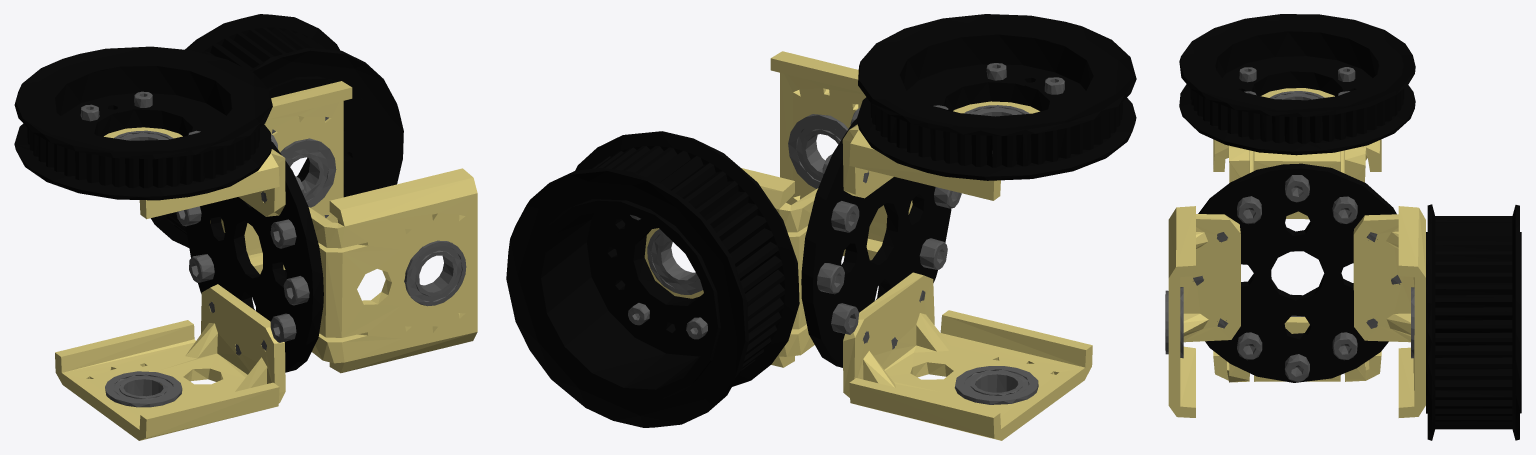
File: joint_junction_link_large_pitch_pulley.dae
The picture shows the model from 3 angles, left to right: view 1: azimuth 30°, elevation 25°; view 2: azimuth 150°, elevation 25°; view 3: azimuth 270°, elevation 25°; orthographic projection. The views are drawn at different scales.
Parts seen in each view (by area): view 1: joint_junction_link_large_black, joint_junction_link_gold, joint_junction_link_large_grey; view 2: joint_junction_link_large_black, joint_junction_link_gold, joint_junction_link_large_grey; view 3: joint_junction_link_large_black, joint_junction_link_gold, joint_junction_link_large_grey.
Part boxes in pixels (x1,y1,x2,y2): joint_junction_link_large_black: [14, 14, 403, 372]; joint_junction_link_gold: [55, 81, 477, 440]; joint_junction_link_large_grey: [80, 91, 466, 407]; joint_junction_link_large_black: [506, 14, 1136, 427]; joint_junction_link_gold: [644, 51, 1092, 440]; joint_junction_link_large_grey: [628, 63, 1064, 404]; joint_junction_link_large_black: [1179, 14, 1521, 440]; joint_junction_link_gold: [1168, 88, 1425, 417]; joint_junction_link_large_grey: [1165, 67, 1414, 381].
Bounding box in the file's own units: 0.1037 × 0.0783 × 0.068.
